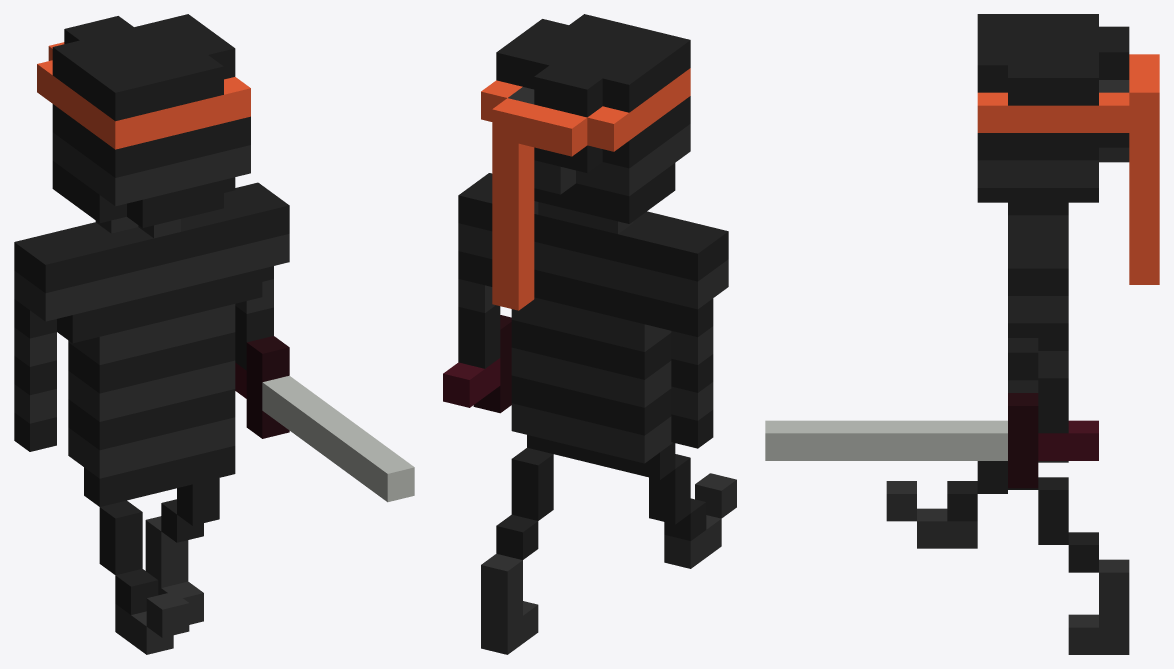
Rendered from SwingingNinjaCharater-1.obj.
3 views of the same model, side by side, from view 1: azimuth 30°, elevation 25°; view 2: azimuth 150°, elevation 25°; view 3: azimuth 270°, elevation 25° (orthographic). The views are drawn at different scales.
Parts seen in each view (by area): view 1: SwingingNinjaCharater-1; view 2: SwingingNinjaCharater-1; view 3: SwingingNinjaCharater-1.
Boxes of the visible parts, bbox=[...] form: SwingingNinjaCharater-1: bbox=[14, 14, 414, 654]; SwingingNinjaCharater-1: bbox=[443, 14, 736, 654]; SwingingNinjaCharater-1: bbox=[765, 14, 1159, 654].
Bounding box in the file's own units: 9 × 21 × 13.
Materials: 1 (1 with a texture image).
